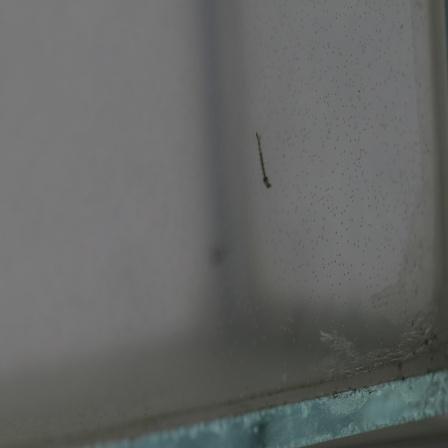Jentik-Nyamuk: (250, 132, 276, 192)
